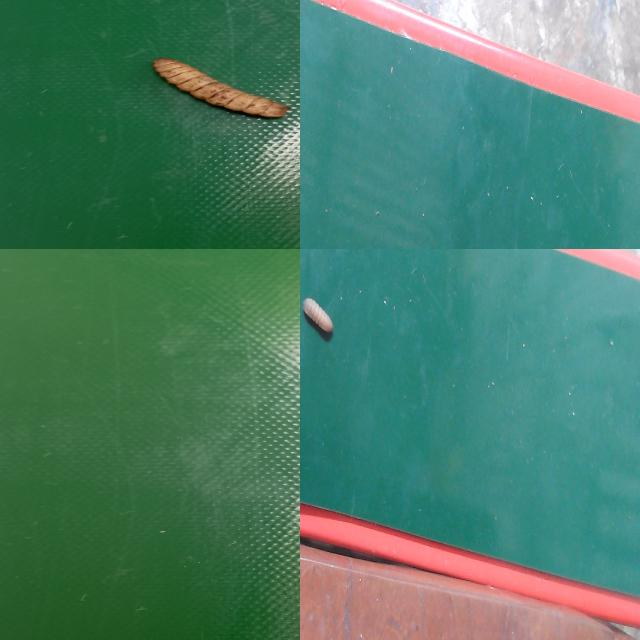Maggot: (152, 58, 288, 121), (301, 297, 336, 341)
